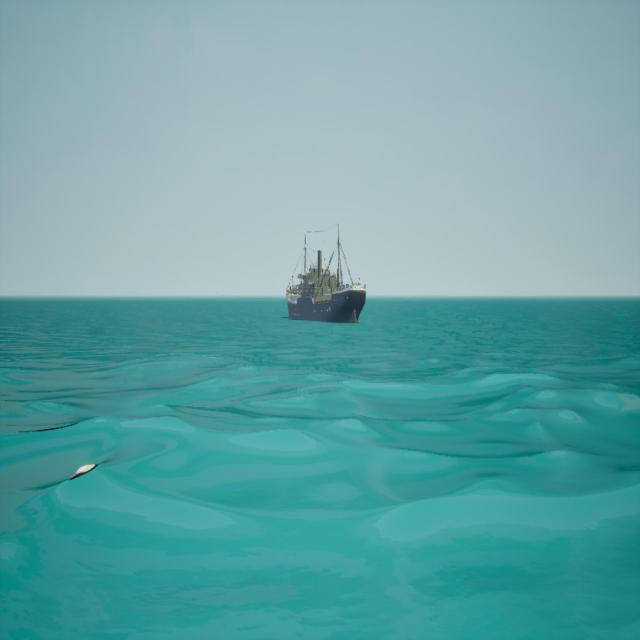fishing ship: (284, 224, 367, 324)
